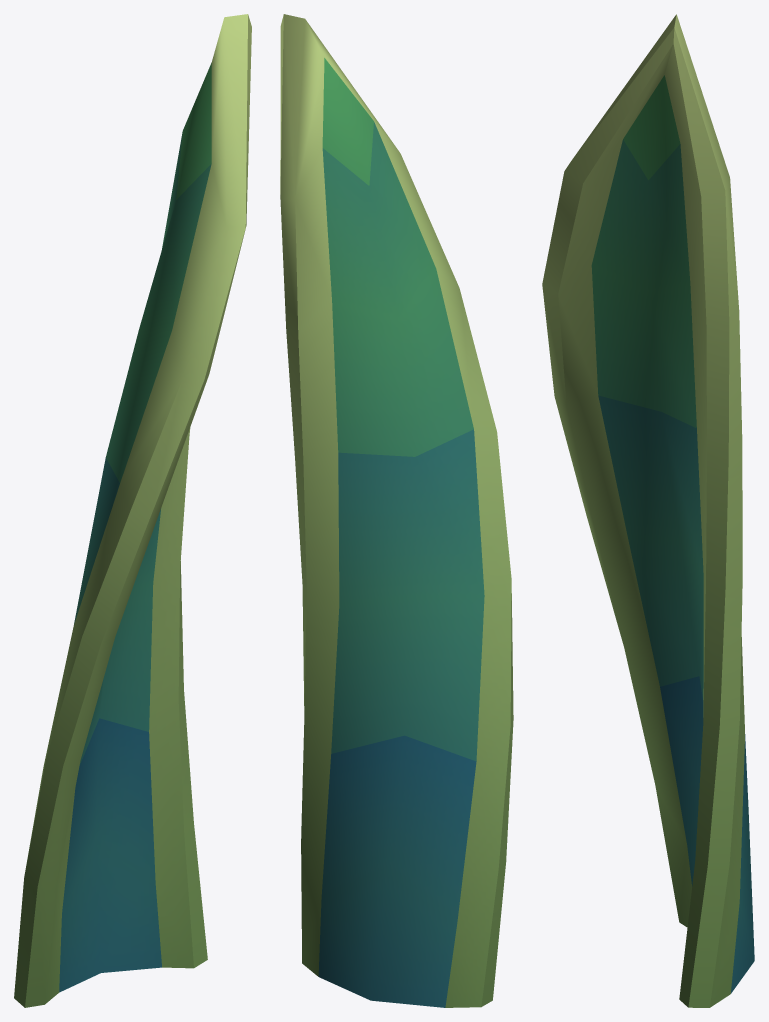
Rendered from Sansevieria Leaf-LlhbFHJqoc.glb.
The picture shows the model from 3 angles, left to right: view 1: azimuth 30°, elevation 25°; view 2: azimuth 150°, elevation 25°; view 3: azimuth 270°, elevation 25°; orthographic projection. The views are drawn at different scales.
Parts seen in each view (by area): view 1: sansevieria_leaf_large_B; view 2: sansevieria_leaf_large_B; view 3: sansevieria_leaf_large_B.
Boxes of the visible parts, <box> form: sansevieria_leaf_large_B: <box>14,14,251,1007</box>; sansevieria_leaf_large_B: <box>280,14,513,1007</box>; sansevieria_leaf_large_B: <box>542,14,754,1007</box>.
Size of the model in its own units: 0.5418 by 2.18 by 0.4192.
1 material, 1 textured.
